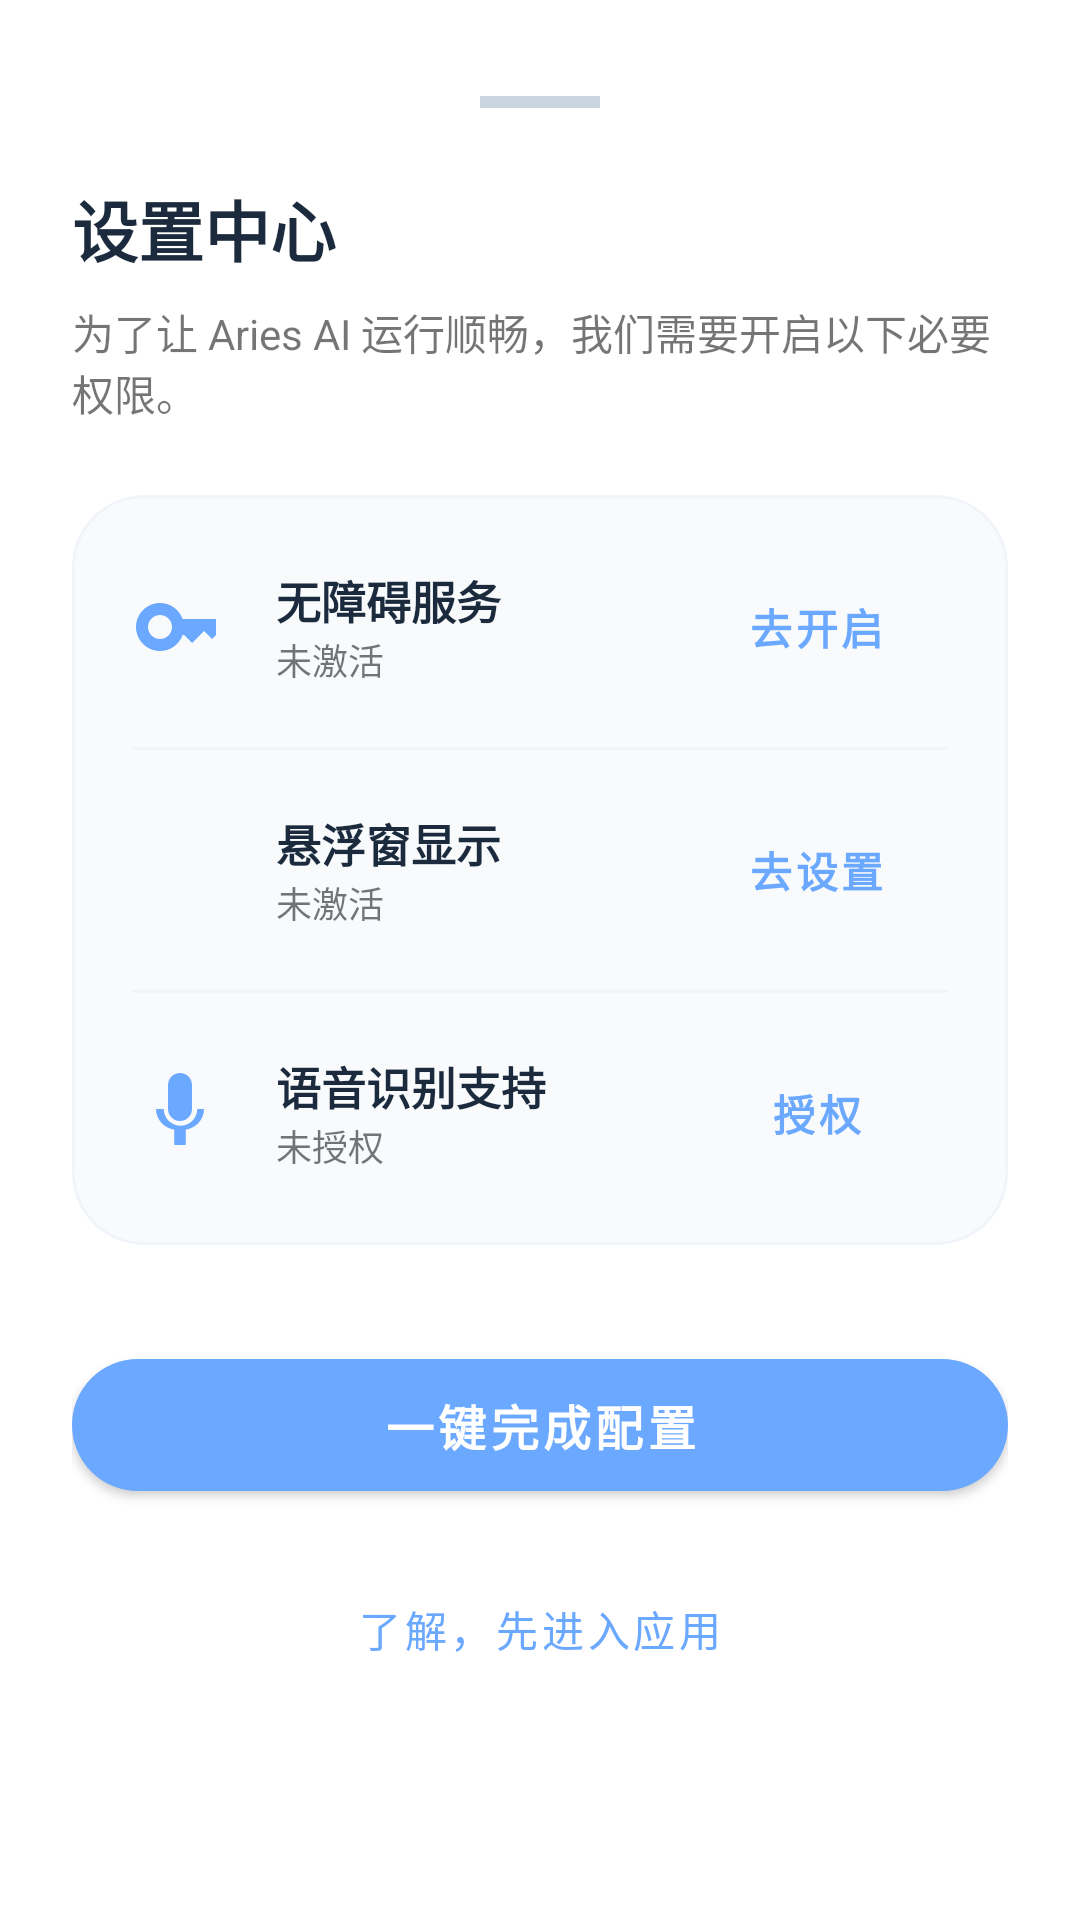

Icons on this 1080x1920 Android screen, each with its box as bbox=[x1, y1, x2, y2]:
key: bbox=[136, 603, 216, 651]
mic: bbox=[156, 1073, 204, 1145]
